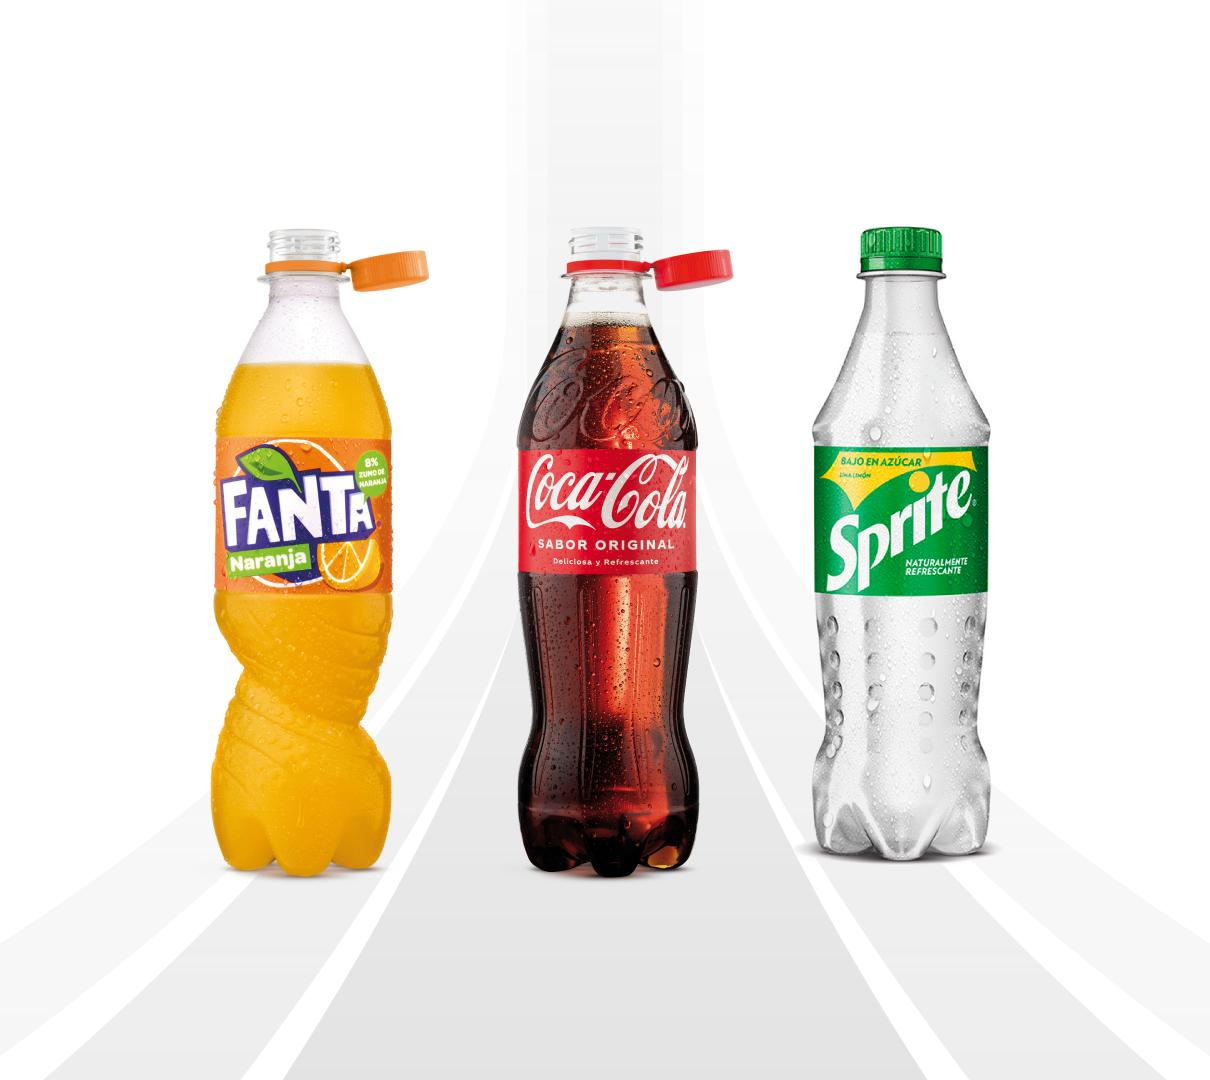paper: (211, 228, 396, 875), (517, 228, 697, 876), (812, 227, 990, 859)
